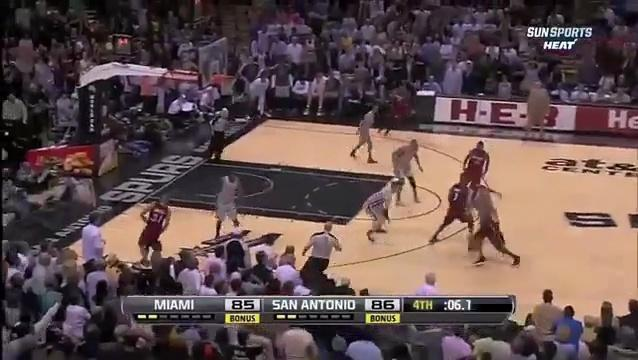Backboard: (199, 38, 227, 90)
Ball: (470, 240, 479, 249)
Basket: (216, 73, 236, 95)
Person: (468, 179, 522, 270), (388, 135, 428, 209), (431, 177, 473, 247), (137, 195, 175, 261), (210, 172, 246, 241), (361, 178, 397, 239), (378, 83, 415, 136), (457, 137, 493, 191), (353, 102, 382, 163)
Referee: (300, 218, 344, 289), (205, 106, 230, 159)
Shot Clock: (111, 35, 133, 56)
